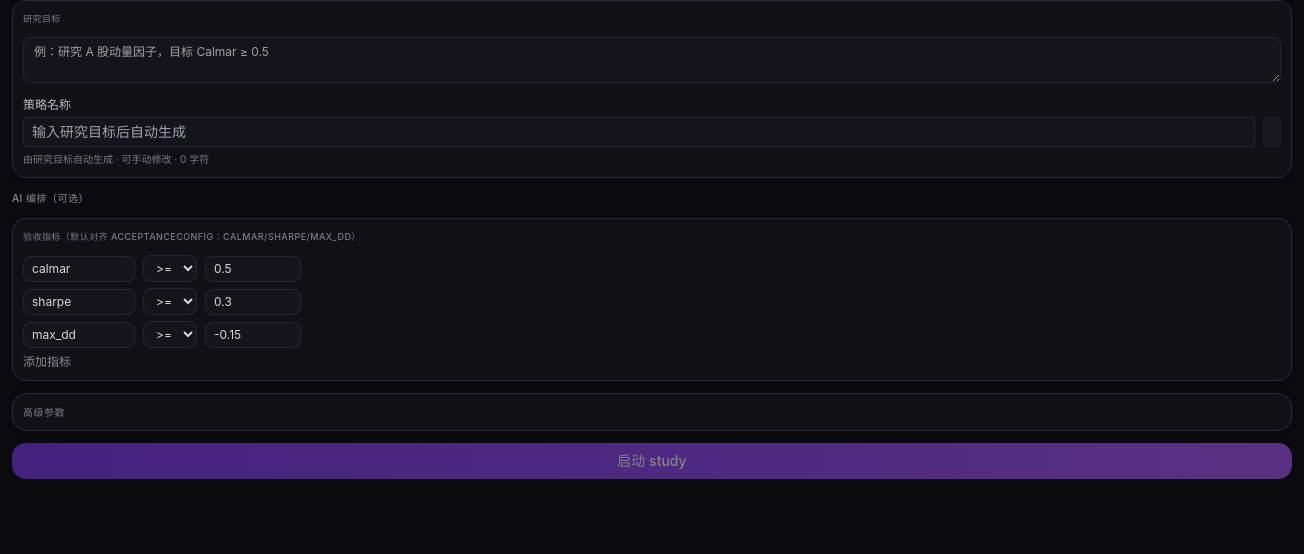
Test: StudyCreatePanel › surfaces start errors
In the text box with placeholder "例：研究 A 股动量因子，目标 Calmar ≥ 0.5": [652, 60] box [23, 37, 1281, 83], type "x"
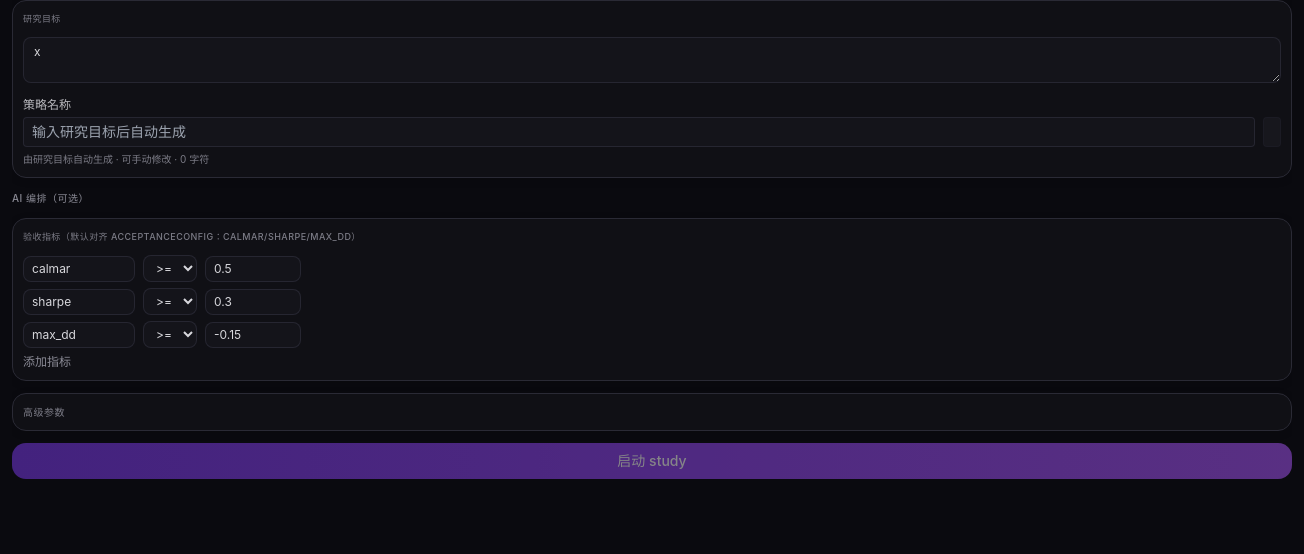
In the field with placeholder "输入研究目标后自动生成": [639, 132] box [23, 117, 1255, 147], type "x_1"
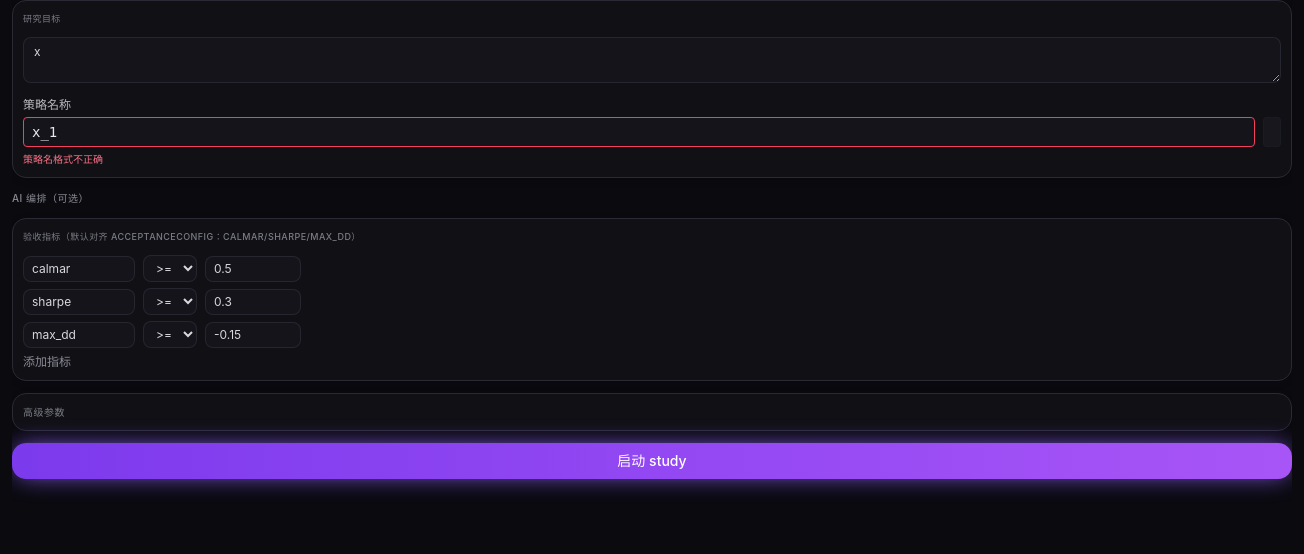
Click the button "启动 study": [652, 461] box [12, 443, 1292, 479]
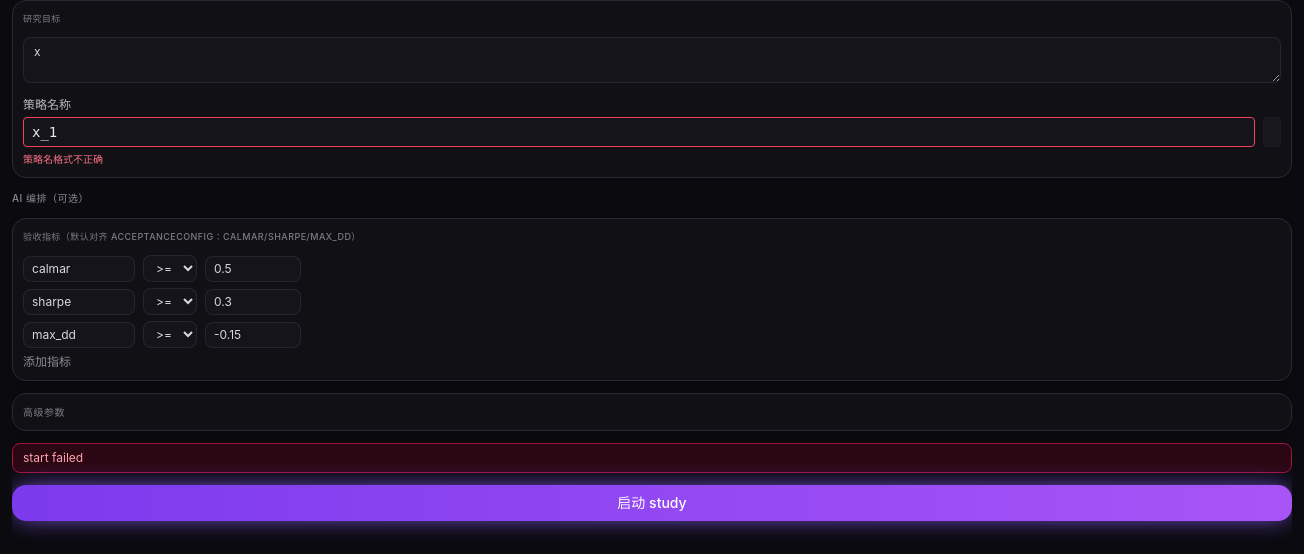
Result: the text "start failed" is shown at [12, 443, 1292, 473]
